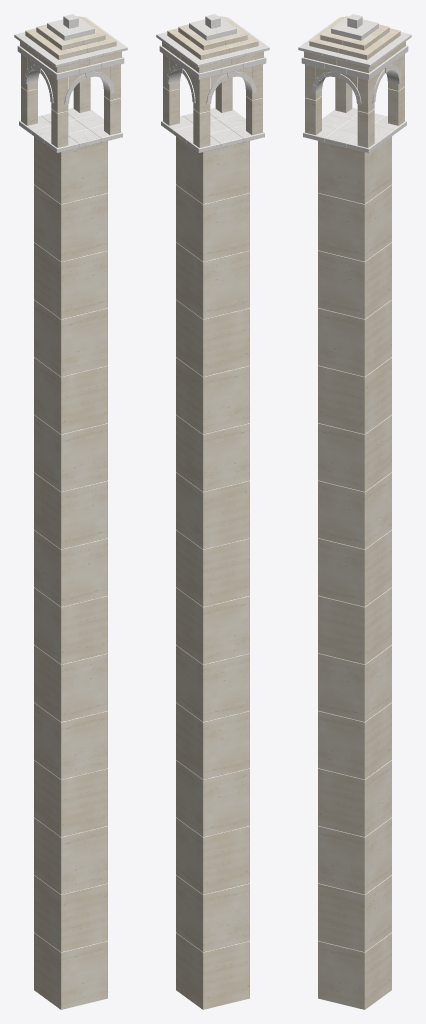
3 views of the same model, side by side, from view 1: azimuth 30°, elevation 25°; view 2: azimuth 210°, elevation 25°; view 3: azimuth 330°, elevation 25° (orthographic).
Parts seen in each view (by area): view 1: Mesh_pavilion; view 2: Mesh_pavilion; view 3: Mesh_pavilion.
Boxes of the visible parts, left/top/right/bottom form: Mesh_pavilion: left=14, top=14, right=127, bottom=1009; Mesh_pavilion: left=156, top=14, right=269, bottom=1009; Mesh_pavilion: left=298, top=14, right=411, bottom=1009.
Bounding box in the file's own units: 5.2 × 67.6 × 5.2.
Materials: 1 (1 with a texture image).
